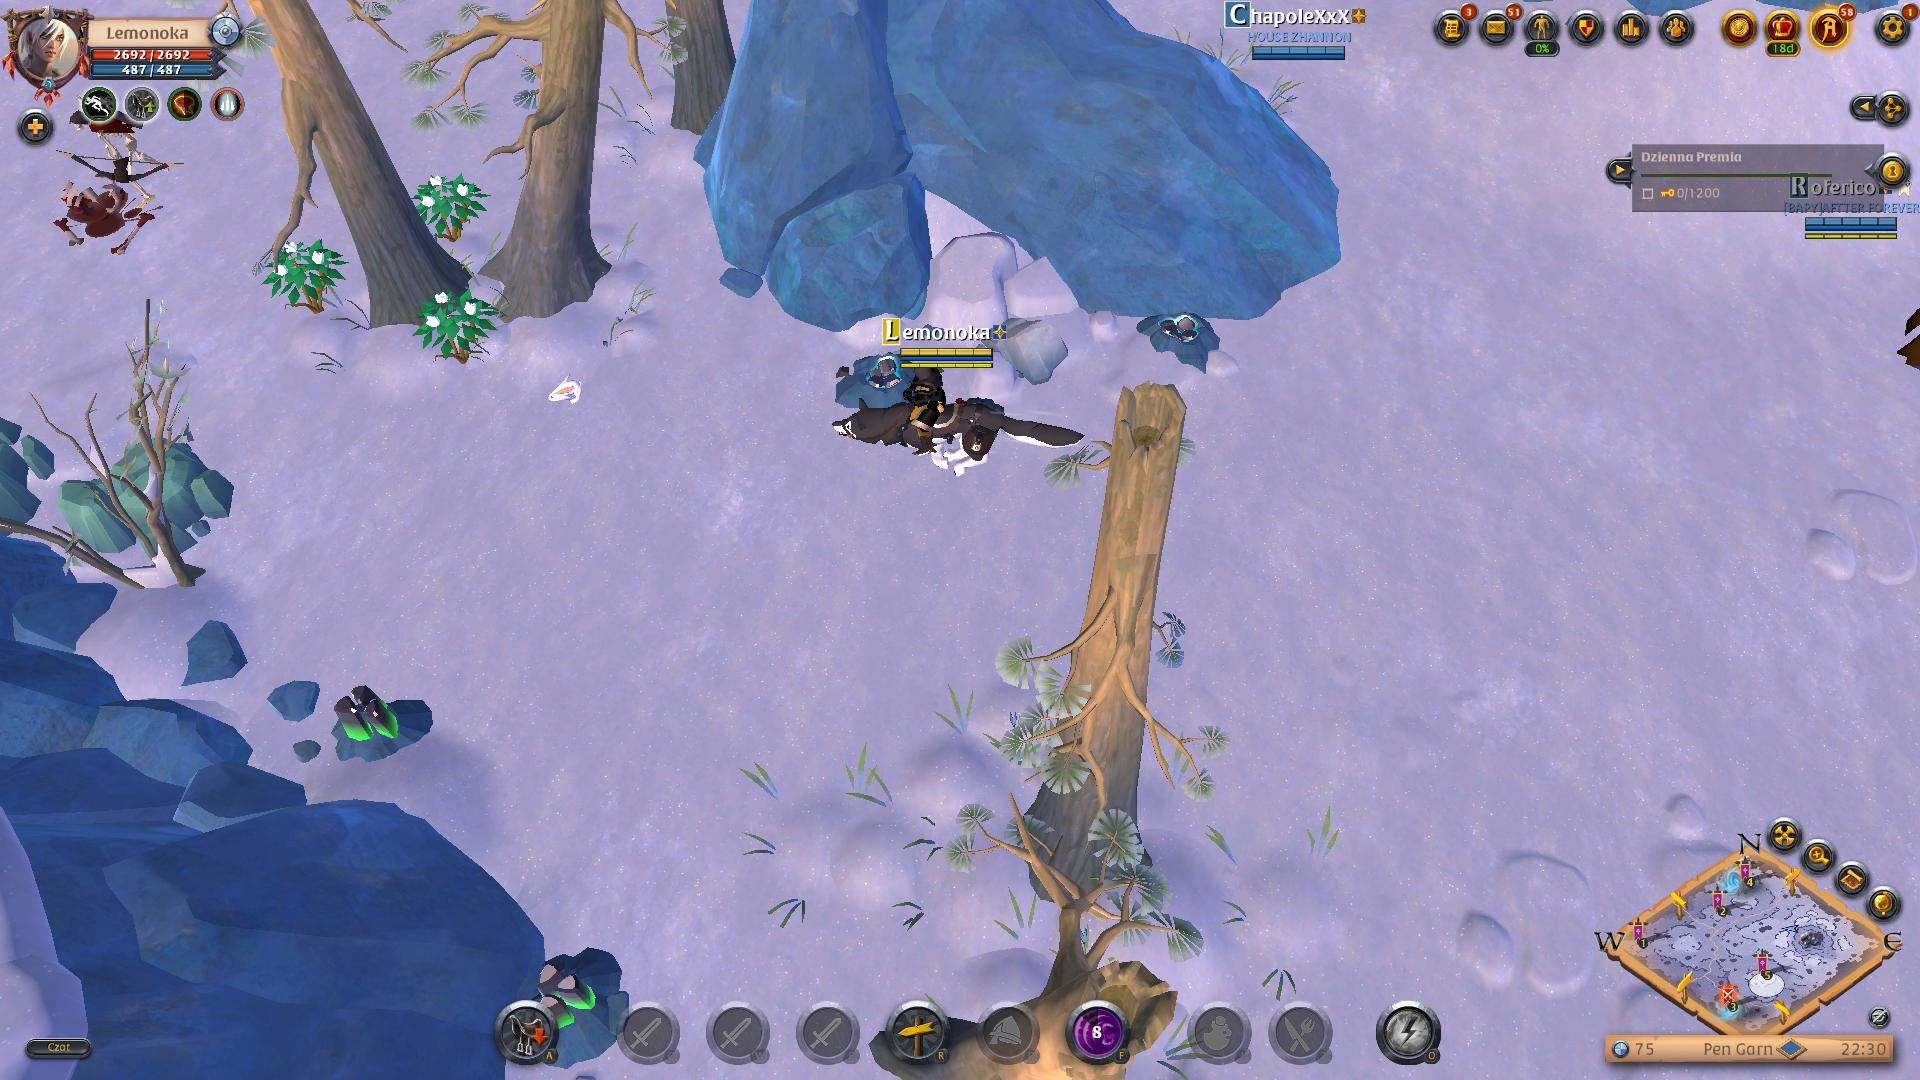fiber tier 3: (411, 284, 500, 364), (264, 235, 345, 316), (411, 170, 491, 248)
ore tier 3: (330, 676, 436, 765)
